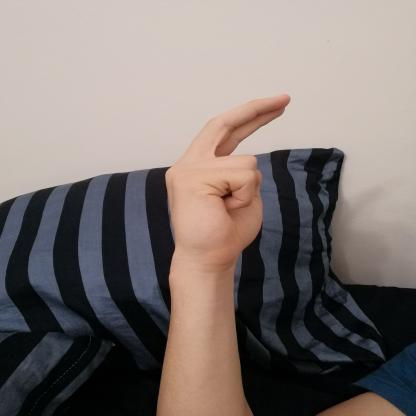ZAY: (156, 84, 300, 275)
